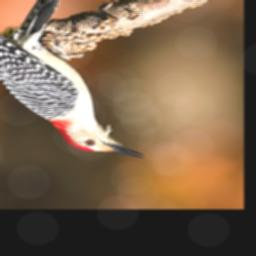Woodpecker: (0, 0, 145, 159)
